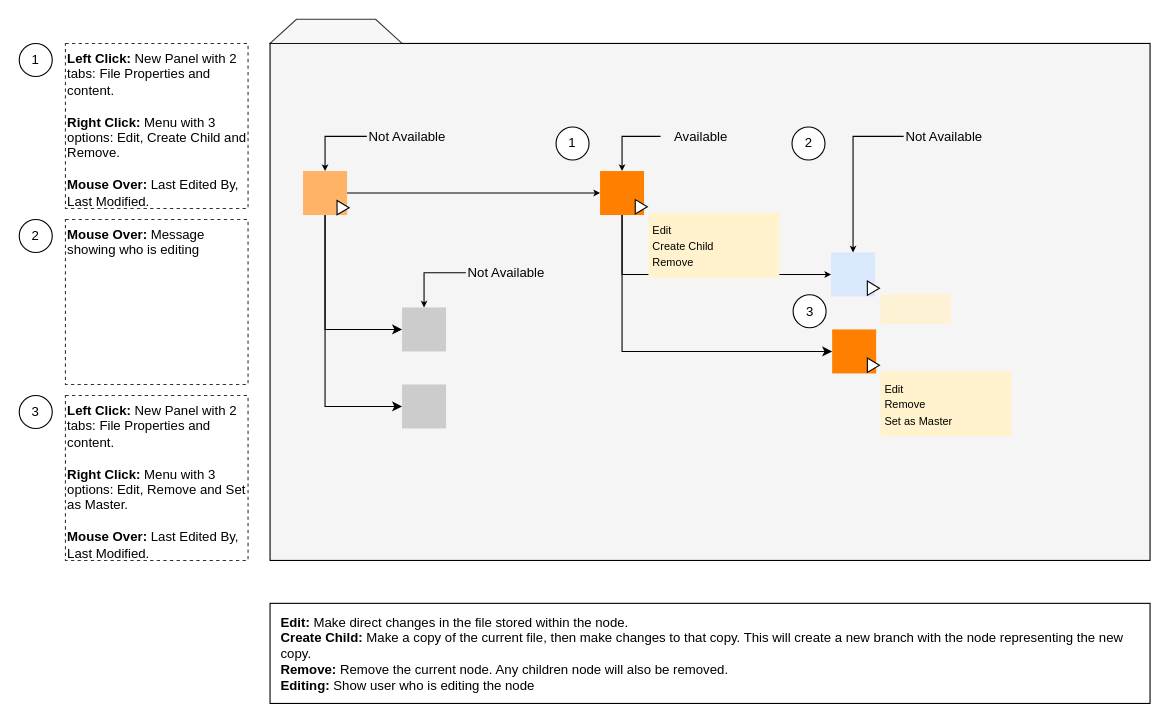
Some shapes in this 1169 by 723 pixel diagram are drawn without their labels. Each missing label, with the centre of its shape:
Editing: xxxx: the point at 915,308
FileName.txt: the point at 335,30
